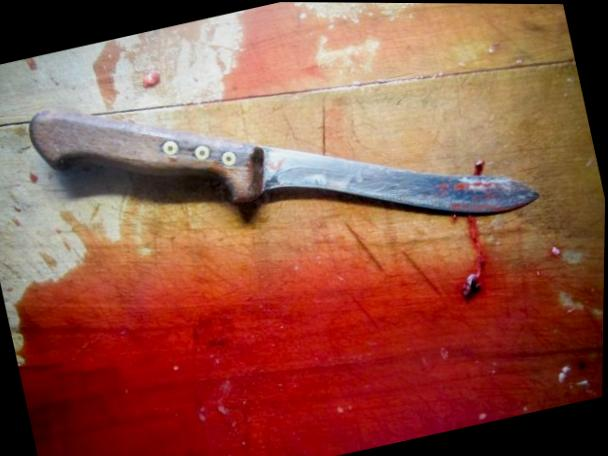Fire: (17, 2, 606, 456)
